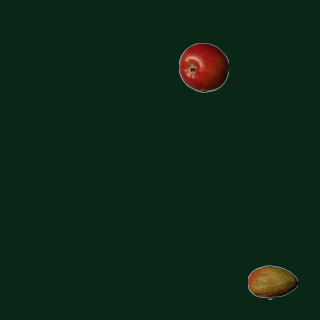Apple Braeburn: (178, 42, 228, 92)
Papaya: (247, 257, 297, 307)
